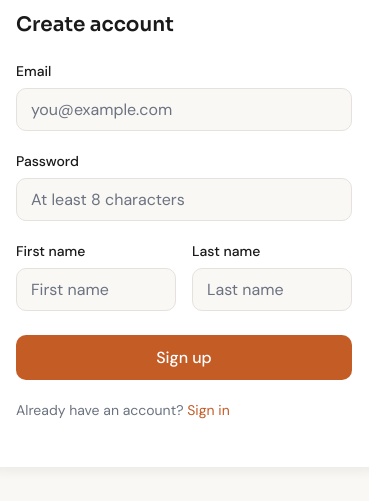
Test case: RegisterForm › shows sign up errors and switches back to login
Type "new@example.com" into the field labelled "Email". click: (184, 110)
box: [16,88,352,131]
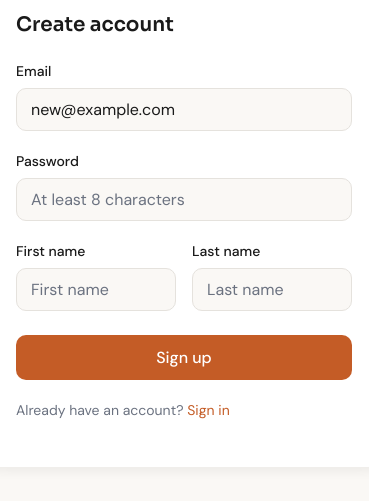
Type "password123" into the password field labelled "Password". click: (184, 200)
box: [16,178,352,221]
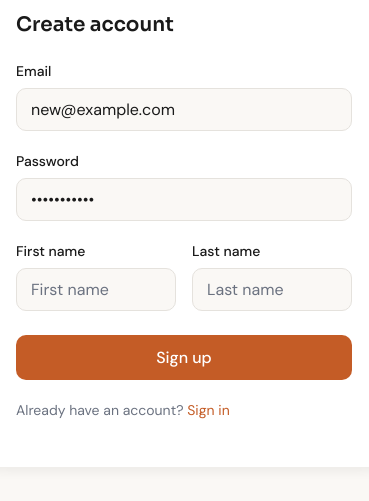
Click the button "Sign up". click: (184, 358)
box: [16,335,352,380]
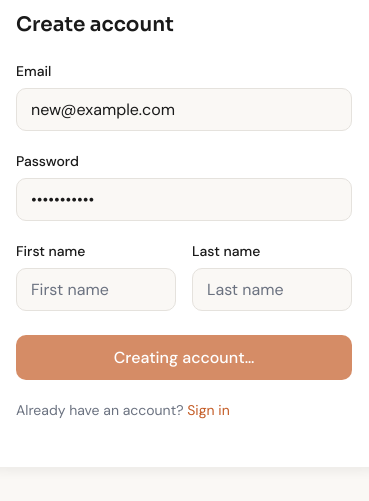
Click the button "Sign in". click: (208, 410)
box: [187,401,230,419]
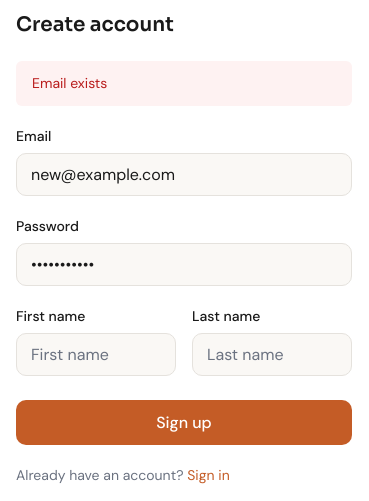
Check: the message reads "Email exists", box [32,74,107,92]
